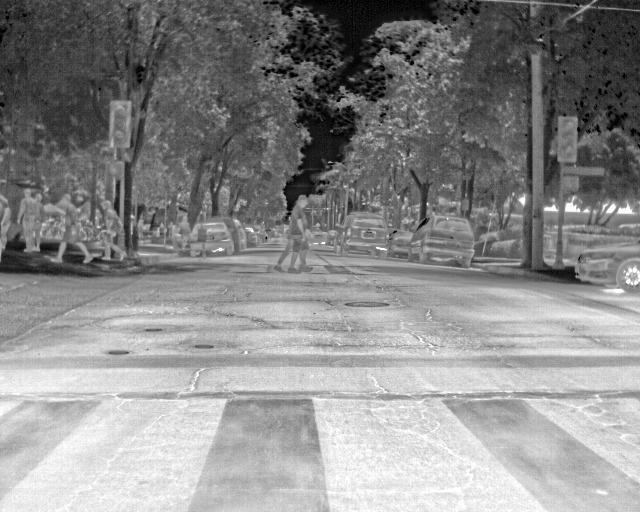bicycle: (572, 234, 639, 294), (410, 213, 475, 269), (338, 210, 391, 255), (191, 219, 235, 257), (389, 229, 415, 259), (234, 217, 249, 250)
empty: (46, 194, 98, 264), (286, 192, 316, 275), (97, 198, 130, 263), (12, 188, 40, 253), (176, 212, 192, 255)
